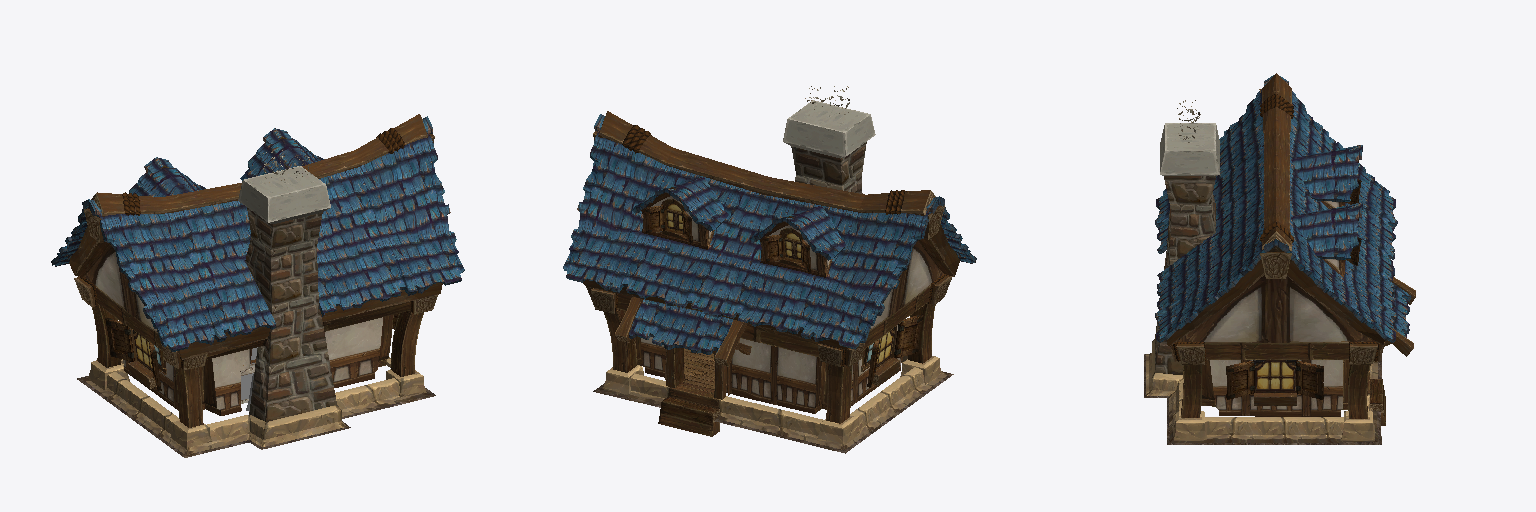
3 renders of one model, left to right at view 1: azimuth 30°, elevation 25°; view 2: azimuth 150°, elevation 25°; view 3: azimuth 270°, elevation 25°, orthographic.
Visible parts, largest first — view 1: Exterior, interior002; view 2: Exterior, interior002; view 3: Exterior, interior002.
Boxes of the visible parts, box(x1,y1,x2,y2) form: Exterior: box(51, 114, 464, 457); interior002: box(123, 315, 393, 415); Exterior: box(563, 86, 976, 453); interior002: box(635, 325, 902, 413); Exterior: box(1144, 73, 1415, 444); interior002: box(1201, 360, 1349, 416).
Size of the model in its own units: 18.29 by 14.7 by 12.71.
23 materials, 22 textured.